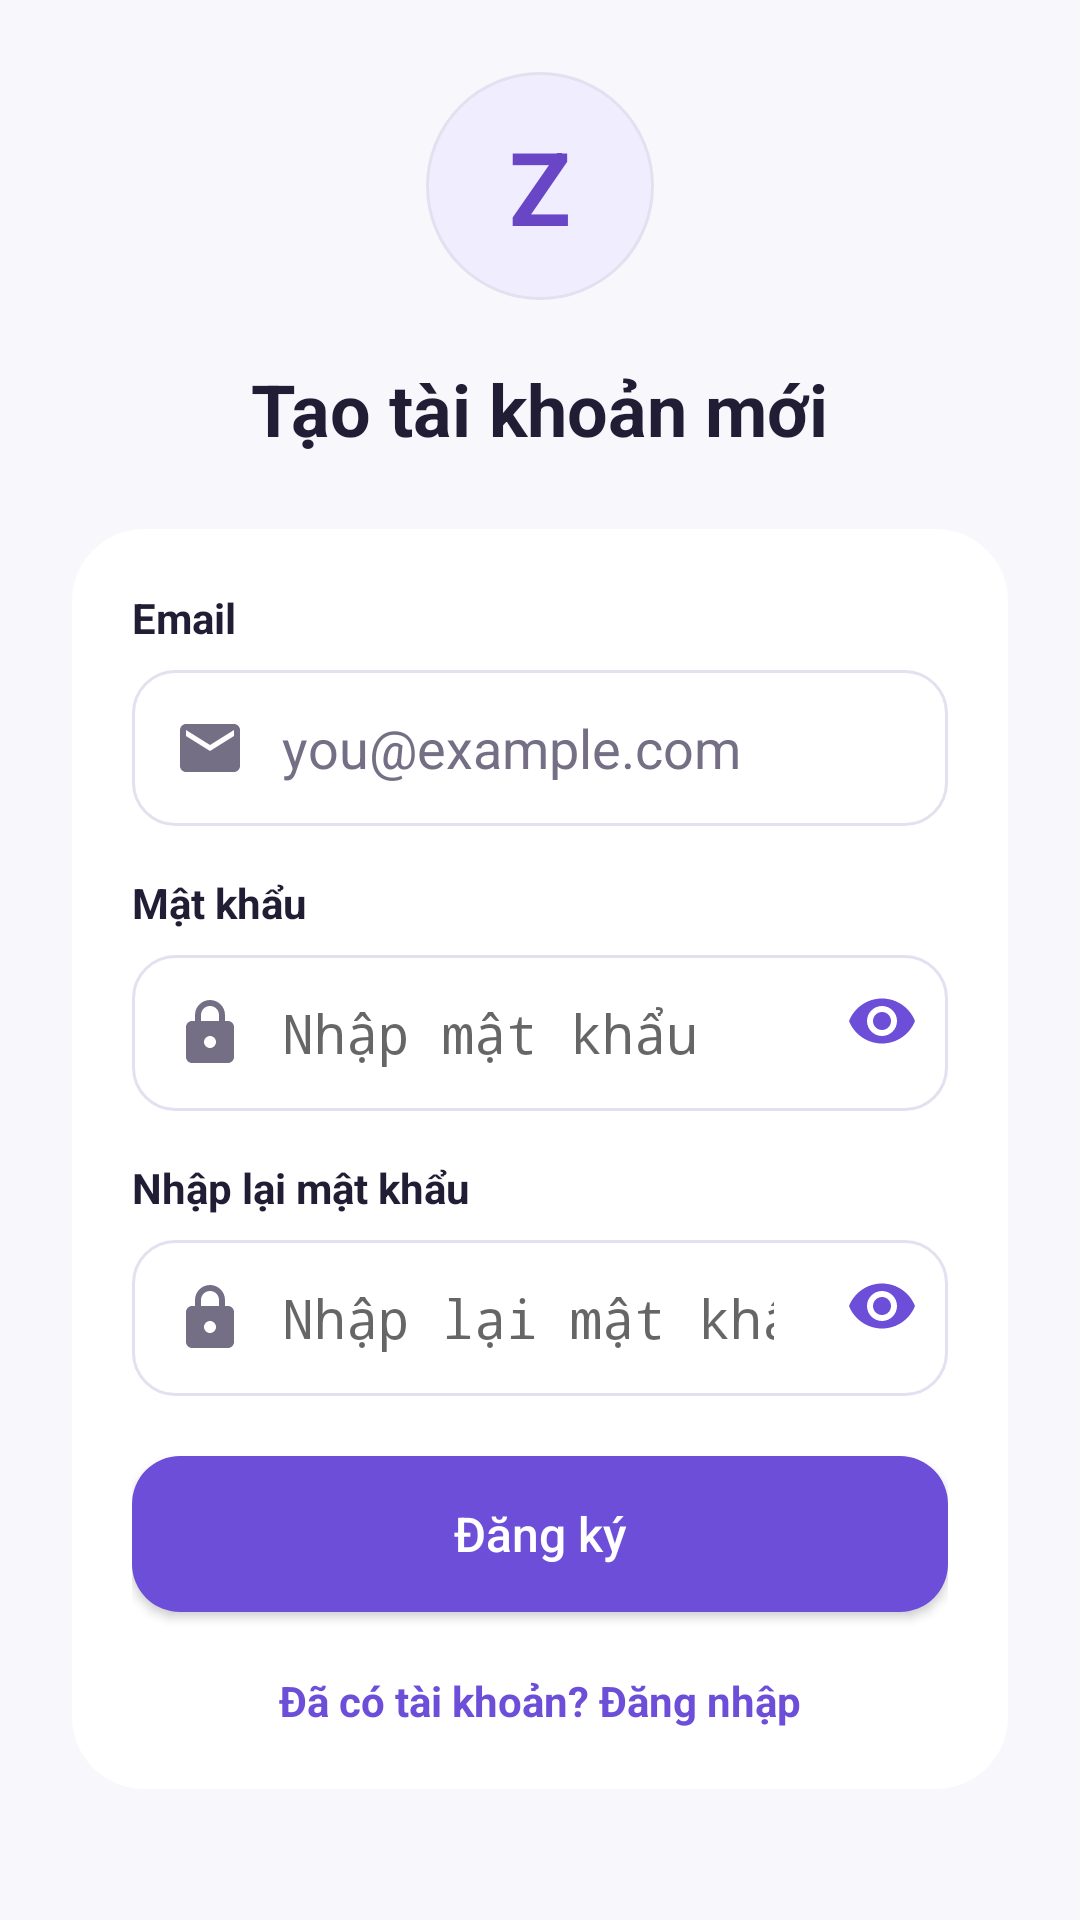

Named icons in this screenshot (1080px×1920px) and their bounding boxes, detection(x1, y1, x2, y2):
Hiện hoặc ẩn mật khẩu: detection(849, 998, 915, 1044), detection(849, 1283, 915, 1329)
